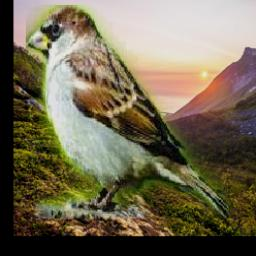Sparrow: (27, 6, 234, 220)
